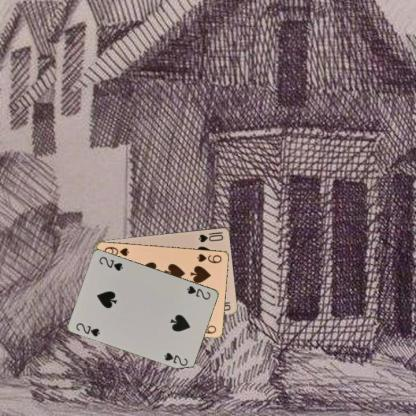10s: (196, 229, 224, 243)
2s: (184, 283, 212, 301), (74, 320, 101, 338)
9s: (195, 251, 223, 264)
